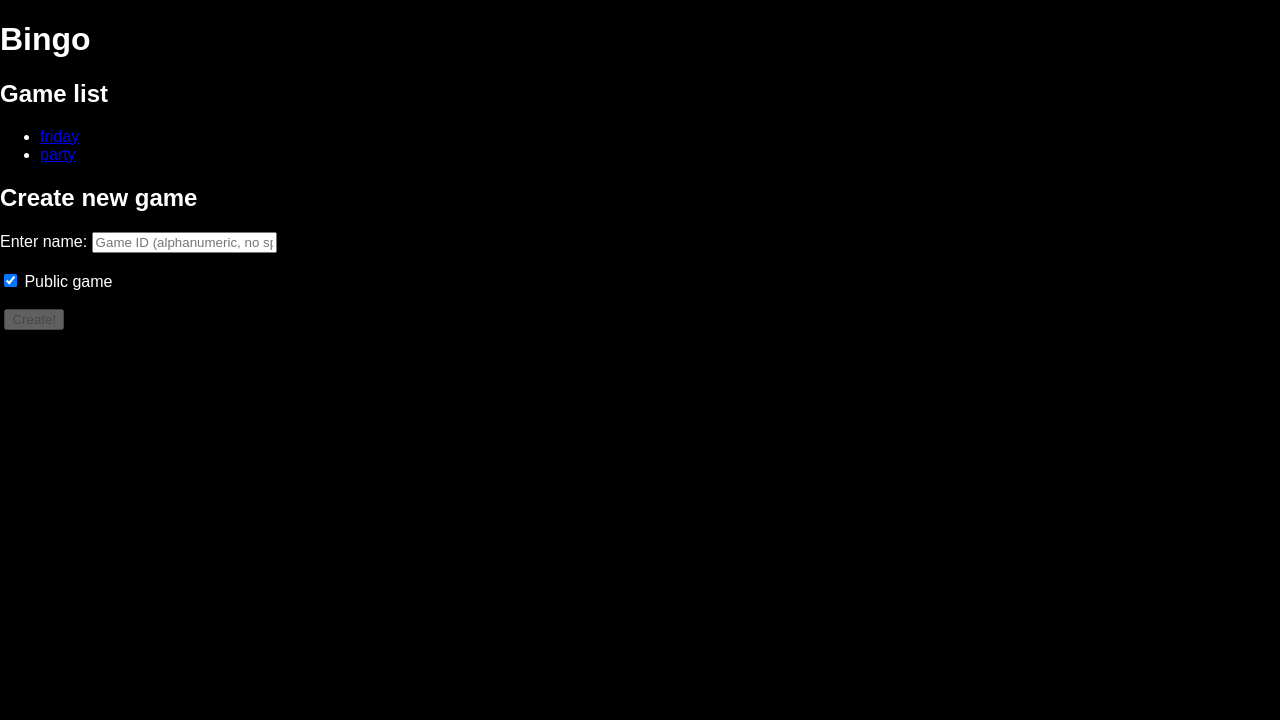
Test: create game › shows the control code and resets the form
This screenshot has width=1280, height=720.
Type "friday" into the field with placeholder "Game ID (alphanumeric, no spaces)" at (184, 242), box [92,232,277,253]
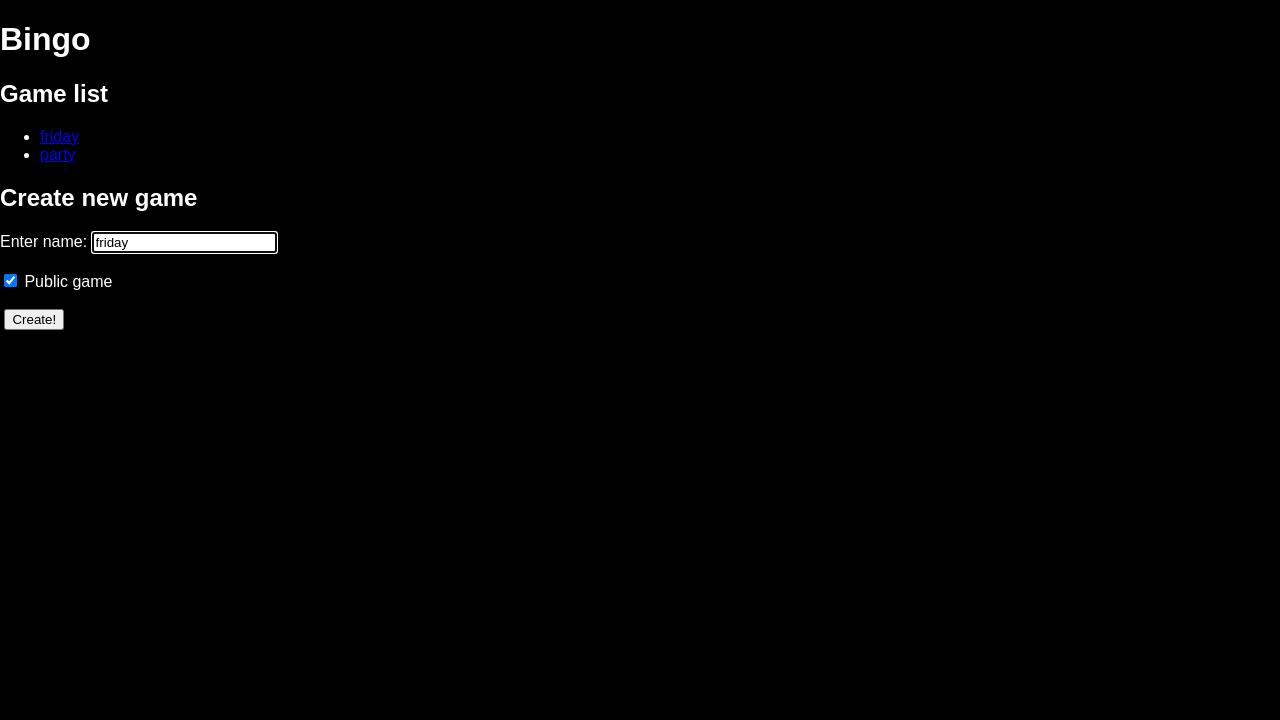
Click the checkbox labelled "Public game" at (10, 280), box [4,274,17,287]
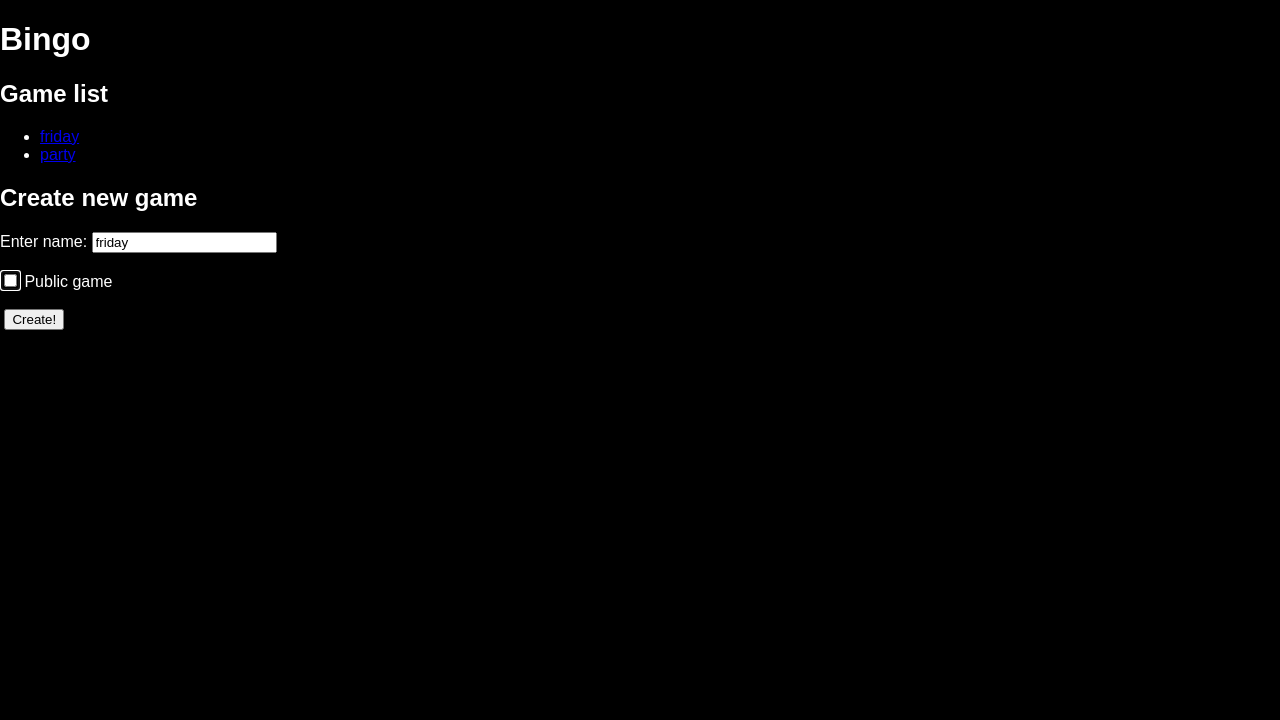
Click the button "Create!" at (34, 319), box [4,309,64,330]
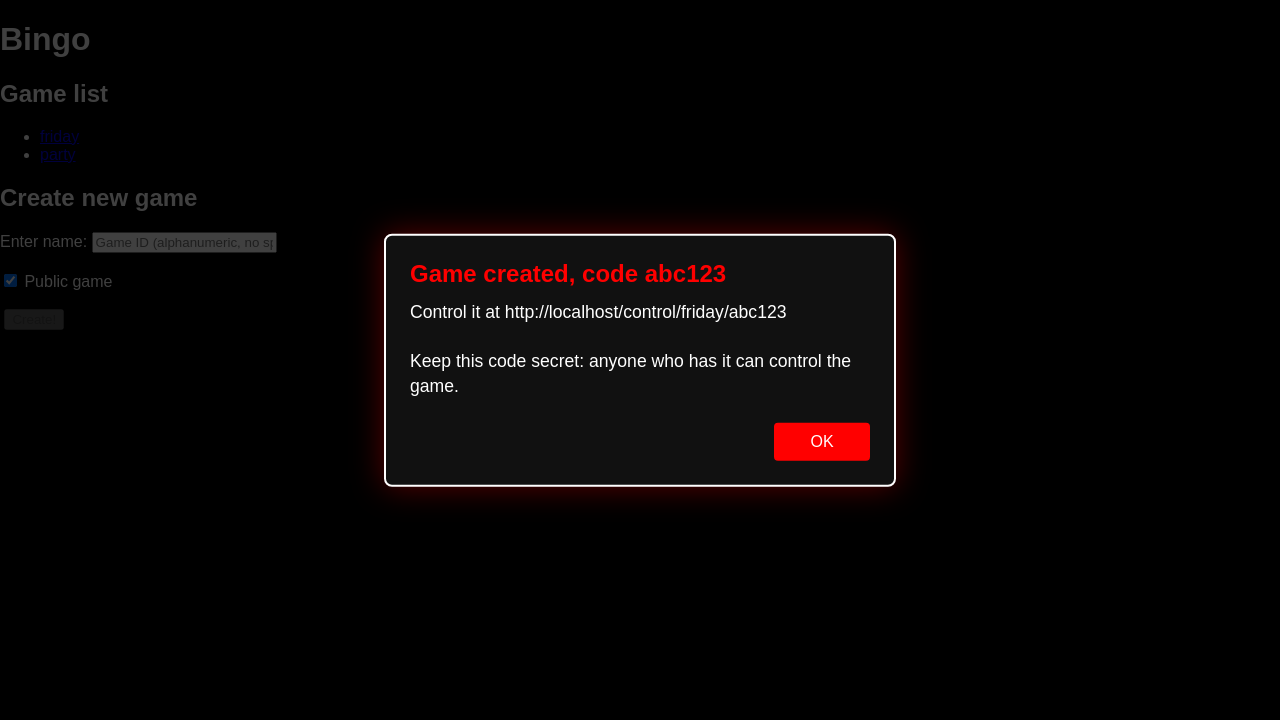
Expected: the checkbox labelled "Public game" is checked, [4,274,17,287]
Expected: the field with placeholder "Game ID (alphanumeric, no spaces)" is empty, [92,232,277,253]
